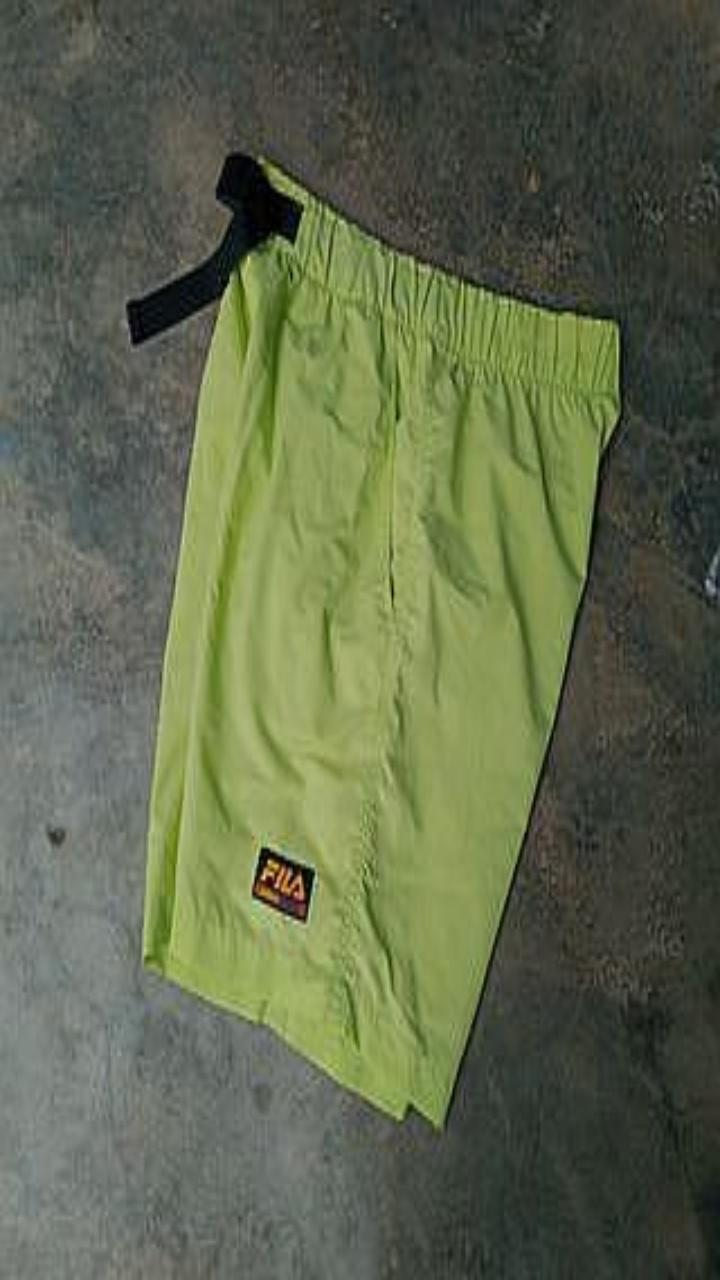Shorts: (143, 160, 618, 1127)
